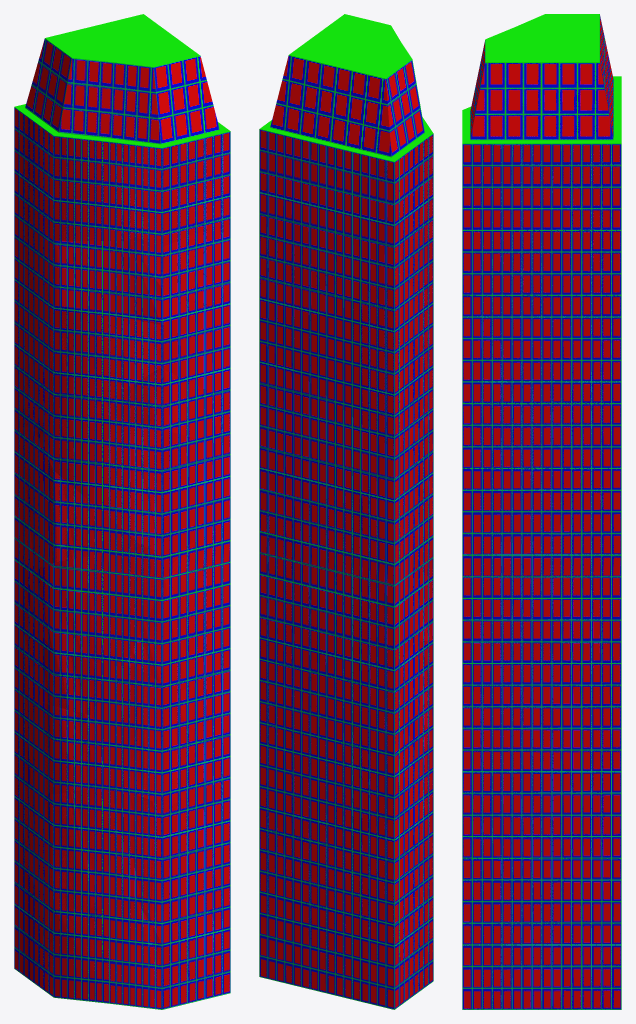
Rendered from BuildingG.fbx.
The picture shows the model from 3 angles, left to right: view 1: azimuth 30°, elevation 25°; view 2: azimuth 150°, elevation 25°; view 3: azimuth 270°, elevation 25°; orthographic projection. The views are drawn at different scales.
Parts seen in each view (by area): view 1: Building_G; view 2: Building_G; view 3: Building_G.
Boxes of the visible parts, x1=… form: Building_G: x1=14, y1=14, x2=230, y2=1009; Building_G: x1=259, y1=14, x2=433, y2=1009; Building_G: x1=462, y1=14, x2=621, y2=1009.
Size of what is drawn, in the model's own units: 20 by 20 by 130.
Materials: 1 (1 with a texture image).
